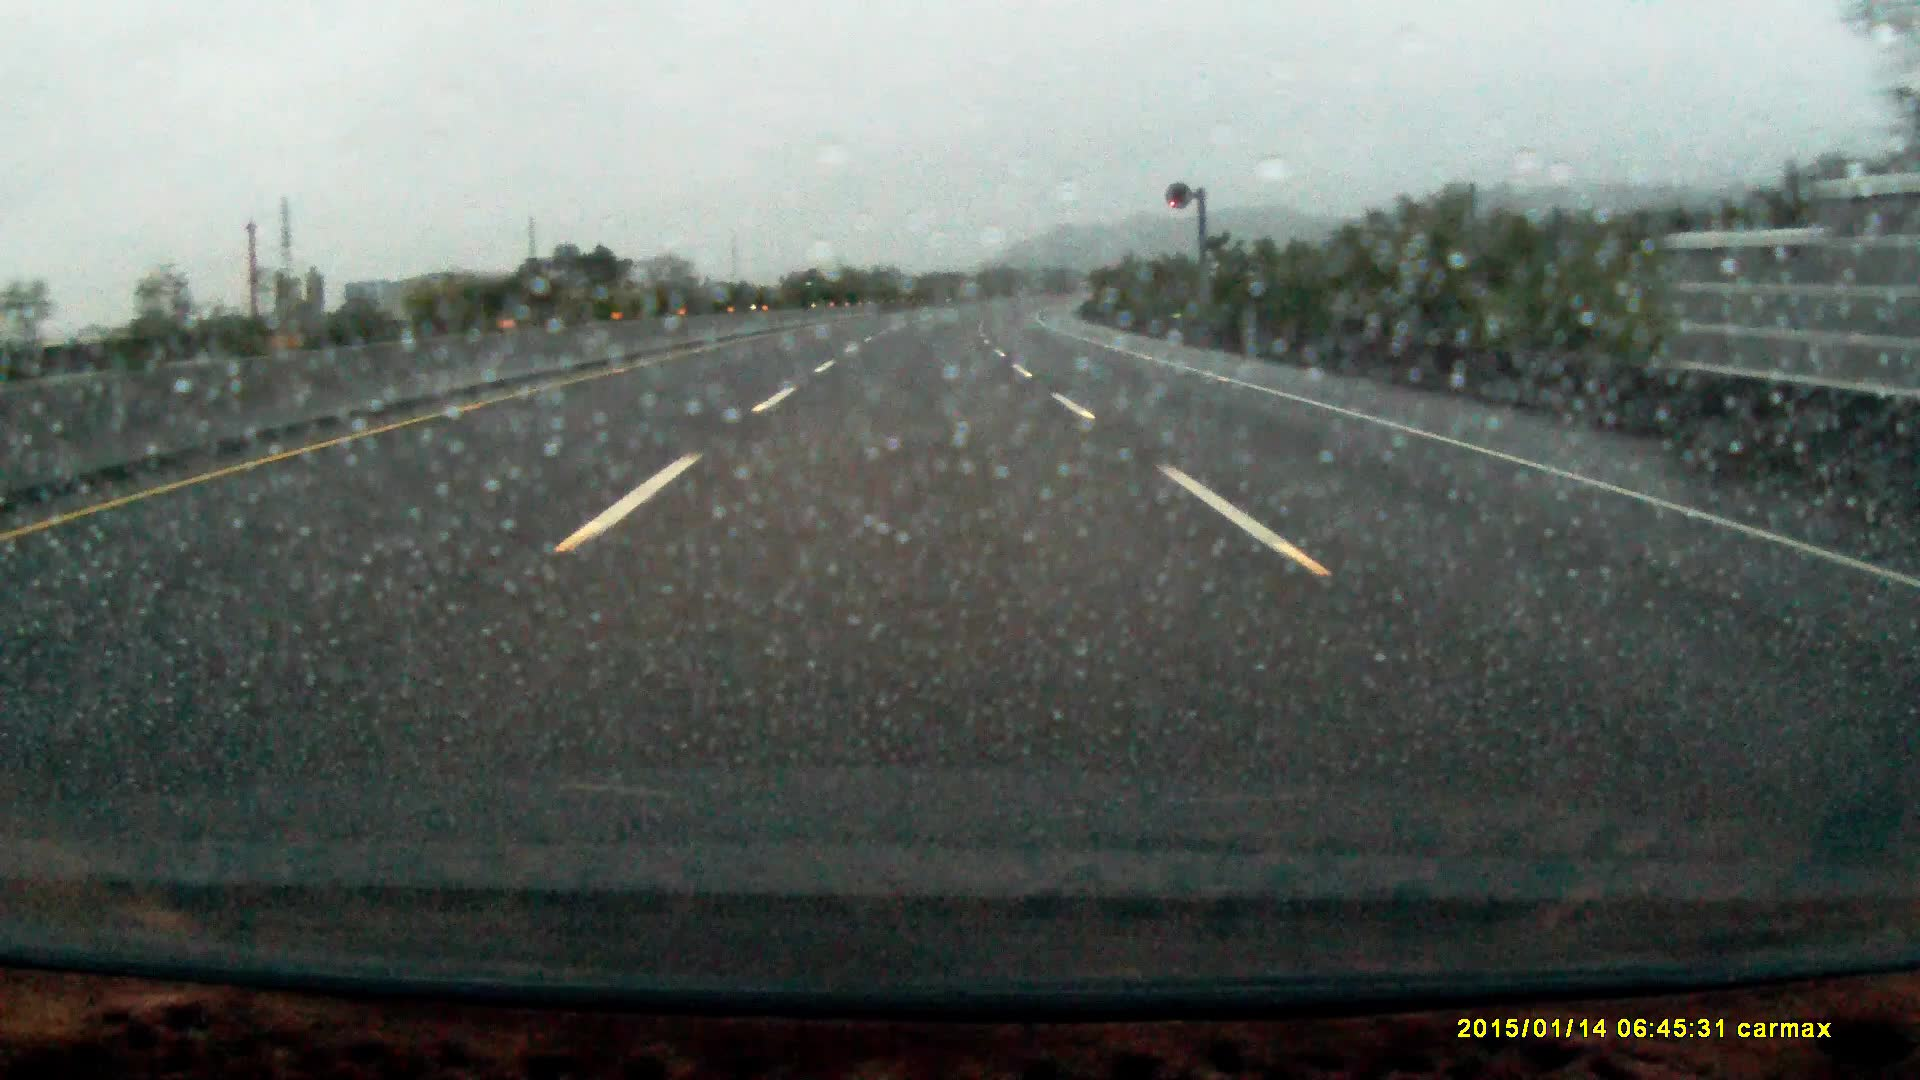vehicle: (803, 268, 843, 306)
